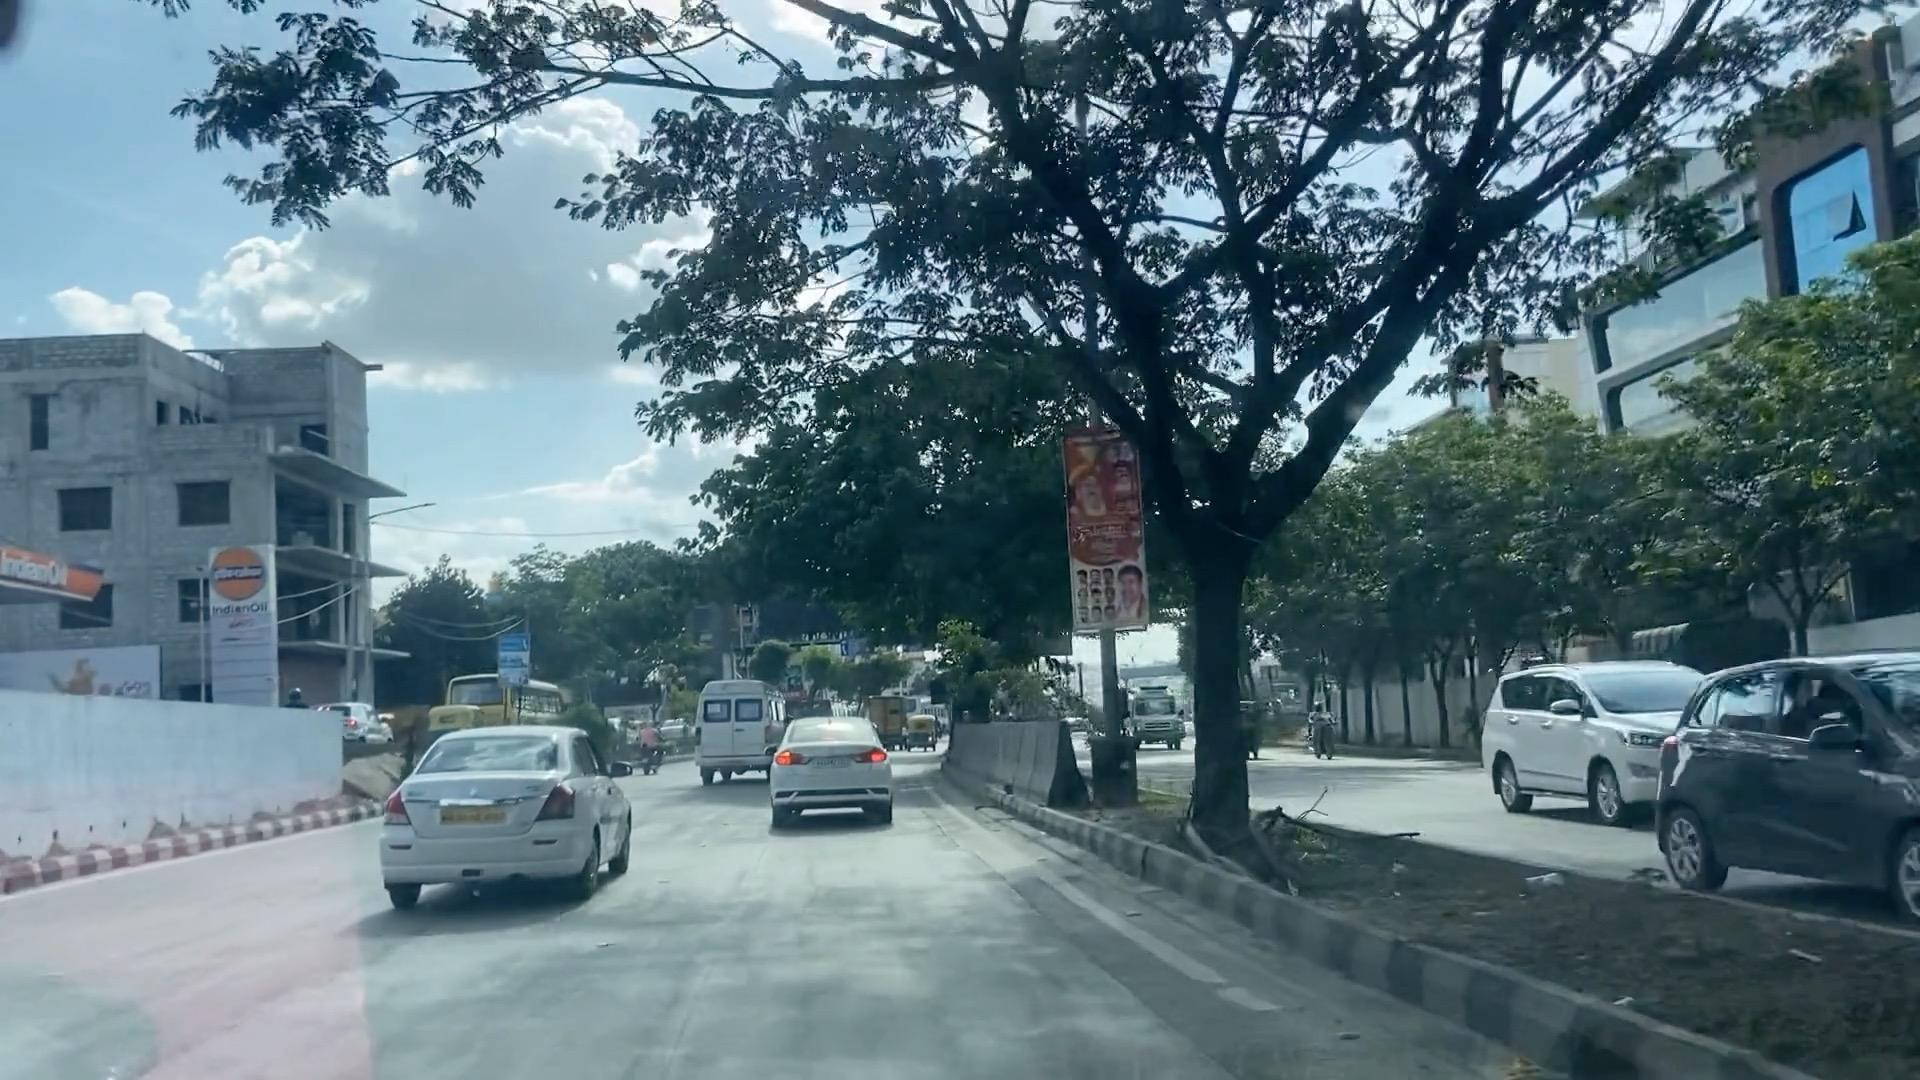HMV: (705, 683, 775, 773)
LMV: (377, 737, 603, 893), (781, 717, 887, 820)
